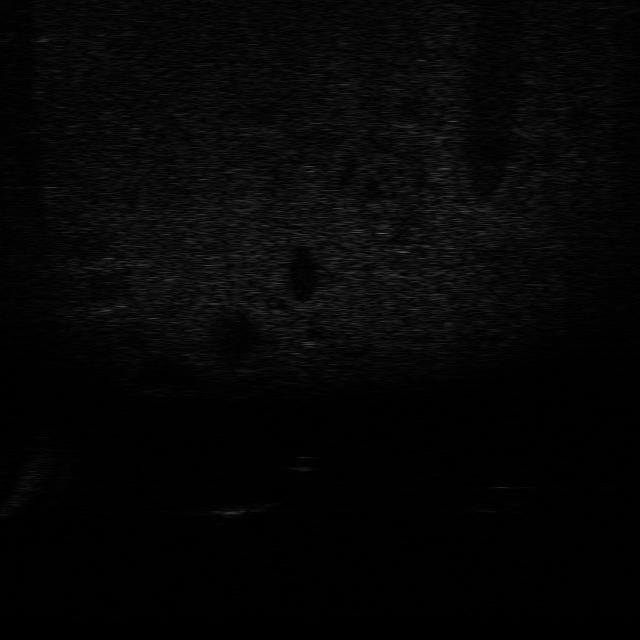ball: (278, 448, 322, 474)
square cage: (198, 492, 272, 526)
tyre: (468, 481, 528, 517)
